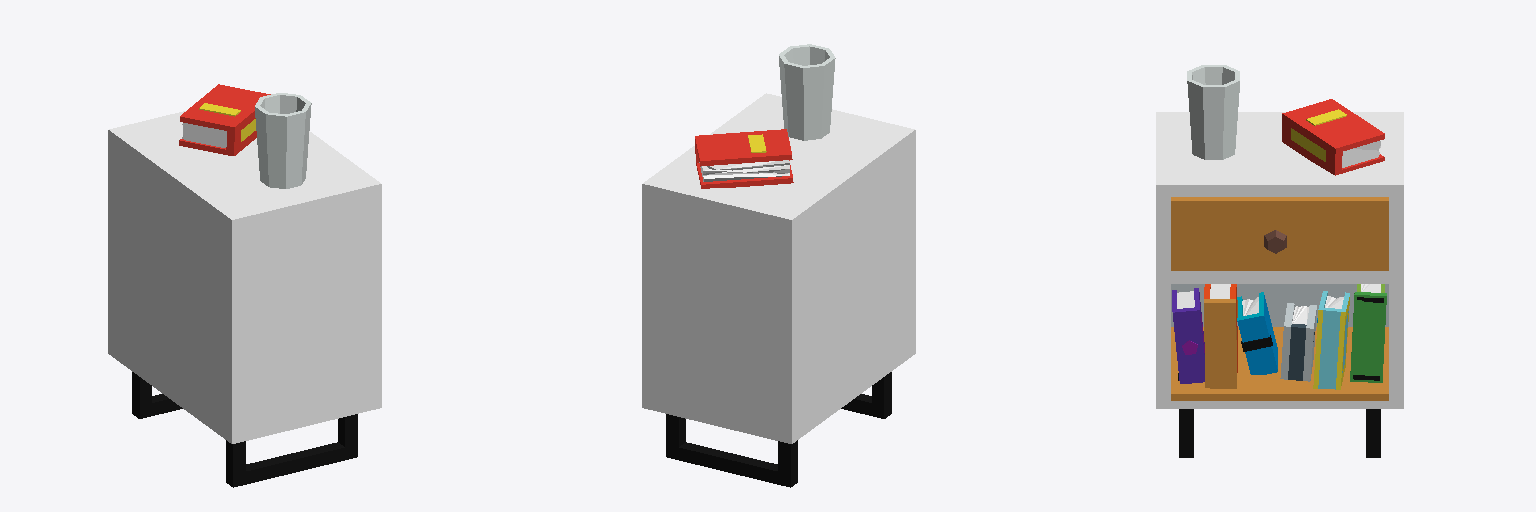
The picture shows the model from 3 angles: view 1: azimuth 30°, elevation 25°; view 2: azimuth 150°, elevation 25°; view 3: azimuth 270°, elevation 25°; orthographic projection.
Visible parts, largest first — view 1: group[number redacted], group[number redacted], group[number redacted], group[number redacted], group[number redacted]; view 2: group[number redacted], group[number redacted], group[number redacted], group[number redacted], group[number redacted]; view 3: group[number redacted], group[number redacted], group[number redacted], group[number redacted], group[number redacted], group[number redacted], group[number redacted], group[number redacted], group[number redacted], group[number redacted], group[number redacted], group[number redacted] (+1 smaller).
Part boxes in pixels (x1,y1,x2,y2): group[number redacted]: (108, 111, 381, 443); group[number redacted]: (255, 93, 311, 188); group[number redacted]: (179, 84, 270, 155); group[number redacted]: (226, 414, 357, 487); group[number redacted]: (132, 372, 182, 418); group[number redacted]: (642, 93, 915, 443); group[number redacted]: (695, 129, 793, 188); group[number redacted]: (779, 44, 835, 140); group[number redacted]: (666, 414, 797, 487); group[number redacted]: (841, 372, 891, 418); group[number redacted]: (1156, 112, 1403, 408); group[number redacted]: (1171, 197, 1388, 270); group[number redacted]: (1171, 327, 1388, 400); group[number redacted]: (1282, 99, 1384, 175); group[number redacted]: (1187, 65, 1239, 159); group[number redacted]: (1204, 284, 1237, 388); group[number redacted]: (1350, 284, 1386, 382); group[number redacted]: (1313, 291, 1349, 389); group[number redacted]: (1172, 288, 1204, 383); group[number redacted]: (1237, 292, 1277, 374); group[number redacted]: (1280, 303, 1316, 381); group[number redacted]: (1179, 409, 1193, 457).
Bounding box in the file's own units: 0.688 × 1.36 × 0.86.